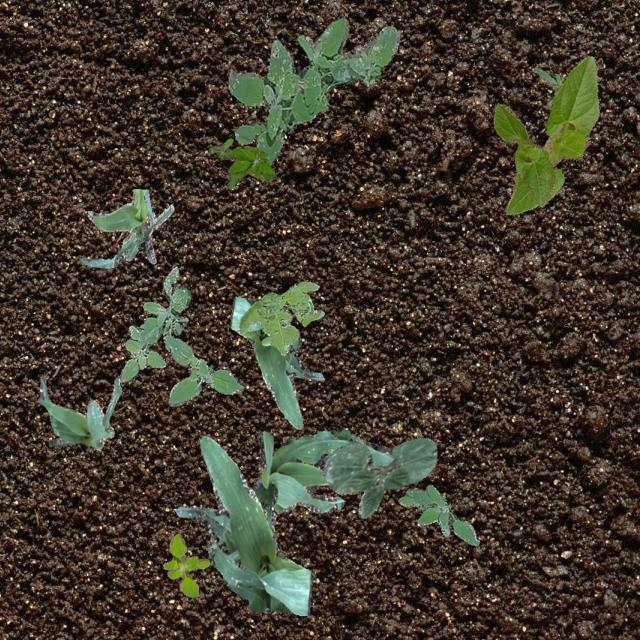crop: (172, 434, 312, 614), (206, 430, 392, 554), (504, 54, 598, 214), (228, 296, 322, 428), (322, 436, 436, 516), (78, 188, 172, 266), (492, 102, 554, 206), (39, 374, 120, 450)
weed: (228, 18, 398, 164), (118, 266, 242, 404), (238, 280, 324, 354), (398, 484, 478, 544), (208, 138, 274, 186), (162, 534, 208, 596), (534, 66, 566, 105)
